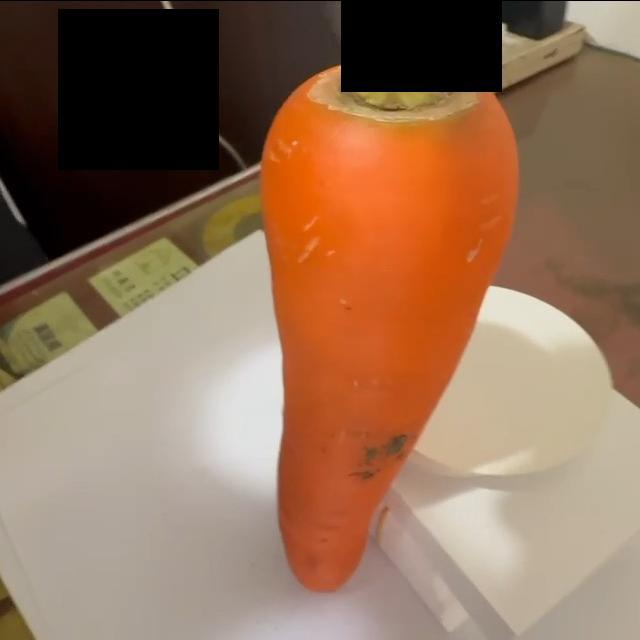carrot: (254, 1, 522, 592)
